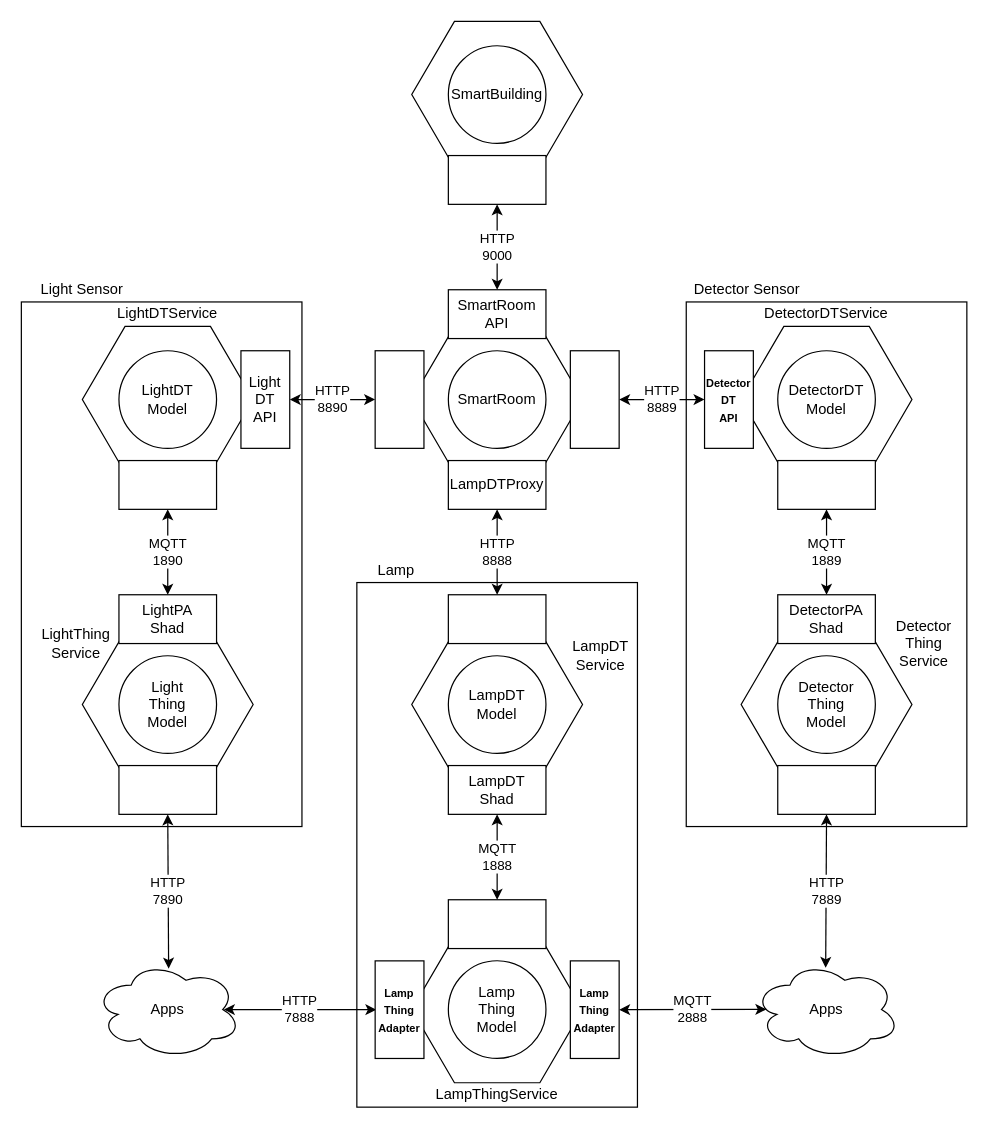
This 988x1129 diagram has some shape labels left out. Each missing label, with the centre of its shape:
"Detector DT Proxy" goes at point (594, 399).
"DetectorDT Shad" goes at point (826, 484).
"DetectorThing Adapter" goes at point (826, 789).
"LampDTAPI" goes at point (496, 619).
"LampPA Shad" goes at point (496, 924).
"Light DT Proxy" goes at point (399, 399).
"LightDT Shad" goes at point (167, 484).
"LightThing Adapter" goes at point (167, 789).
"SmartRoom Proxy" goes at point (496, 179).
